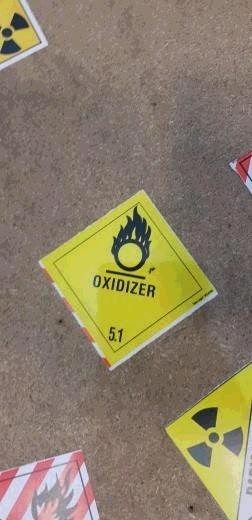flammable-solid: (1, 445, 104, 520)
oxidizer: (29, 187, 222, 374)
radioactive: (165, 361, 252, 520), (1, 1, 51, 71)
